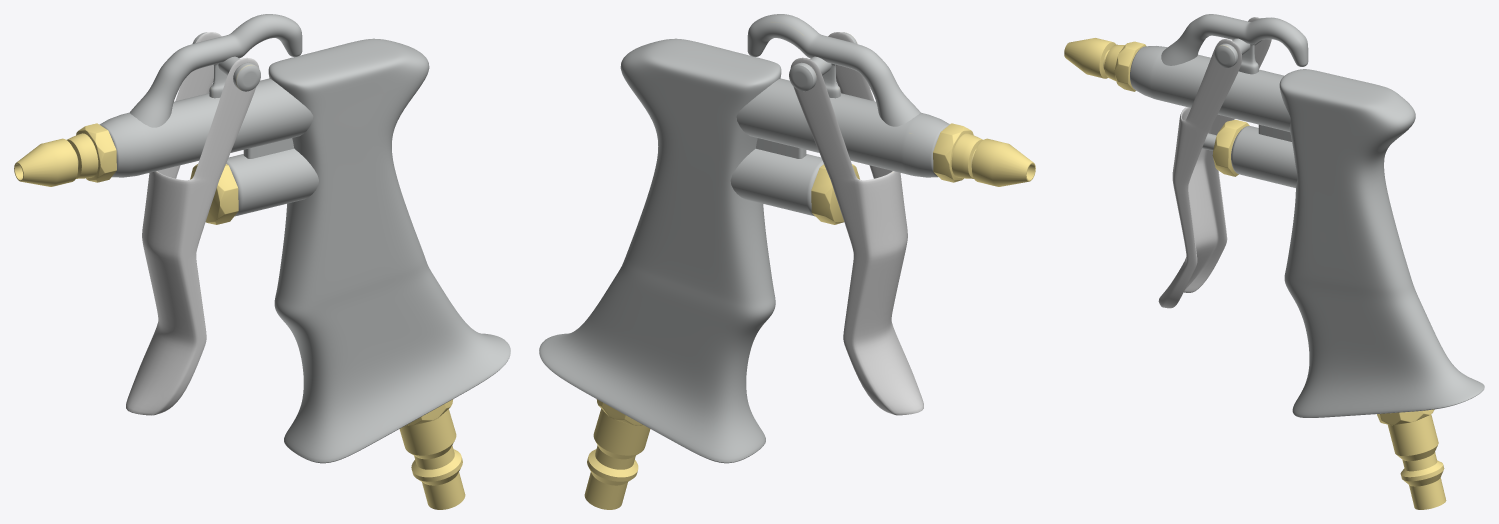
File: Blowgun.fbx
3 views of the same model, side by side, from view 1: azimuth 30°, elevation 25°; view 2: azimuth 150°, elevation 25°; view 3: azimuth 330°, elevation 25° (orthographic). The views are drawn at different scales.
Visible parts, largest first — view 1: Blow Gun; view 2: Blow Gun; view 3: Blow Gun.
Boxes of the visible parts, bbox=[...] form: Blow Gun: bbox=[14, 14, 510, 509]; Blow Gun: bbox=[539, 14, 1035, 509]; Blow Gun: bbox=[1064, 14, 1484, 509].
Size of the model in its own units: 23.6 by 24.7 by 3.96.
